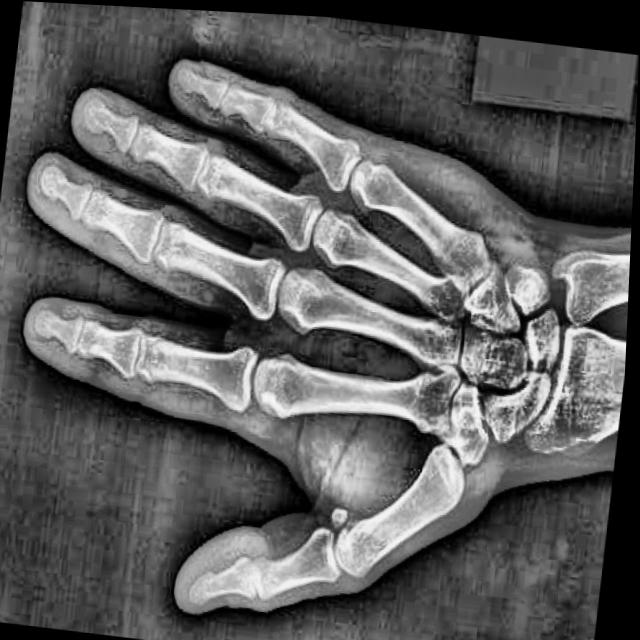fracture: (456, 265, 508, 330)
